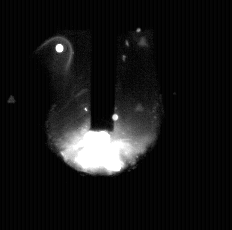arame: (90, 0, 114, 131)
poca: (48, 0, 158, 230)
